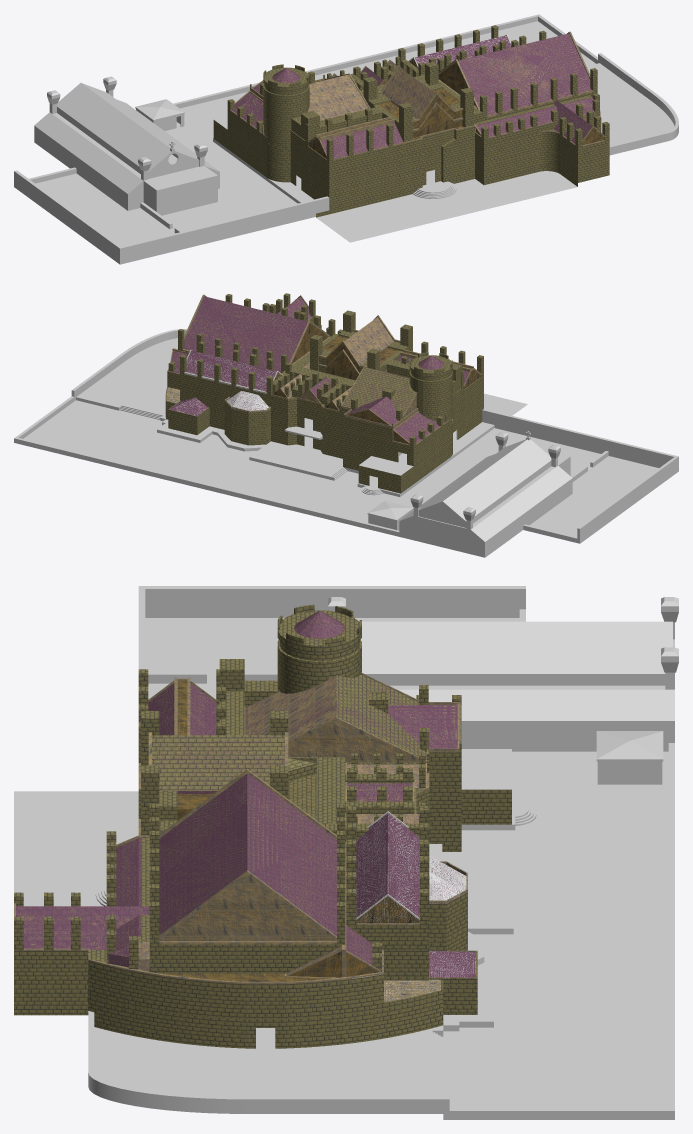
File: MansionRoof.dae
The picture shows the model from 3 angles, top to bottom: view 1: azimuth 30°, elevation 25°; view 2: azimuth 150°, elevation 25°; view 3: azimuth 270°, elevation 25°; orthographic projection. The views are drawn at different scales.
Visible parts, largest first — view 1: Roof, BallroomRoof (×3), StairsToHouse (×3), Graveyard, Filler, SecondGarden, Walls, TowerAtticRoof (×3), BedroomRoof (×3), Terrace, FoyerCeiling (×6), Garden (+5 smaller); view 2: Garden, Roof, Graveyard, TowerAtticRoof (×6), Filler (×3), BallroomRoof (×3), SecondGarden, Terrace, Walls, BedroomCeiling (×3), FoyerCeiling (×4), FirstFloor (+5 smaller); view 3: Garden, BallroomRoof (×7), Roof, Terrace, Filler (×4), TowerAtticRoof (×7), Graveyard, Walls, StairsToHouse, BedroomCeiling (×4), FoyerCeiling (×4), Servant_sQuarters (×2) (+5 smaller).
Part boxes in pixels (x1,y1,x2,y2): Roof: (34,76,219,200); BallroomRoof (×3): (438,30,597,123); StairsToHouse (×3): (316,167,577,242); Graveyard: (14,167,196,264); Filler: (213,114,609,194); SecondGarden: (162,139,329,245); Walls: (213,123,609,210); TowerAtticRoof (×3): (227,64,368,146); BedroomRoof (×3): (290,107,404,174); Terrace: (586,54,678,155); FoyerCeiling (×6): (363,62,474,156); Garden: (173,14,601,141); Garden: (14,389,400,526); Roof: (399,431,572,542); Graveyard: (523,439,678,543); TowerAtticRoof (×6): (340,352,455,450); Filler (×3): (165,316,483,478); BallroomRoof (×3): (178,294,338,372); SecondGarden: (401,409,607,502); Terrace: (74,329,187,421); Walls: (165,402,483,493); BedroomCeiling (×3): (180,341,299,410); FoyerCeiling (×4): (310,317,412,380); FirstFloor: (399,466,572,557); Garden: (443,781,674,1119); BallroomRoof (×7): (149,769,383,984); Roof: (328,597,678,722); Terrace: (88,1011,443,1113); Filler (×4): (14,749,511,1019); TowerAtticRoof (×7): (244,604,461,787); Graveyard: (138,586,525,683); Walls: (14,795,511,1048); StairsToHouse: (14,791,138,906); BedroomCeiling (×4): (321,806,466,950); FoyerCeiling (×4): (141,711,316,835); Servant_sQuarters (×2): (512,731,674,789).
Bounding box in the file's own units: 4438 × 2472 × 905.
